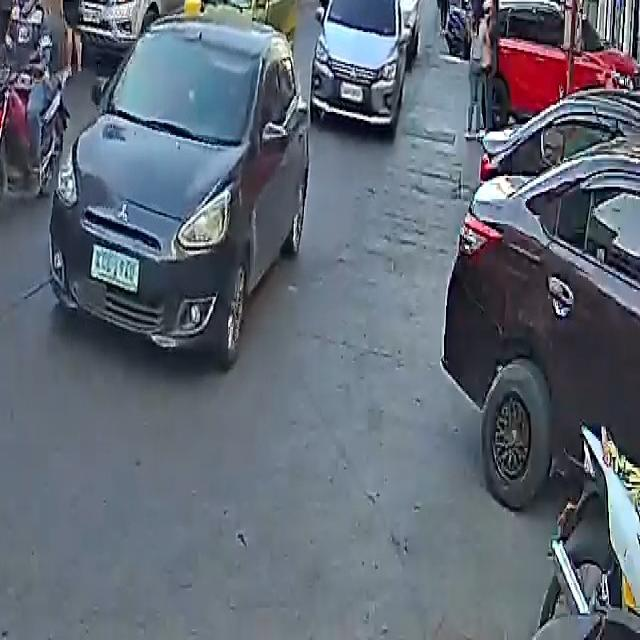car: (48, 10, 314, 354), (445, 118, 640, 522), (484, 0, 636, 121), (307, 0, 415, 132), (83, 0, 194, 32), (197, 0, 301, 30), (366, 0, 420, 2)
